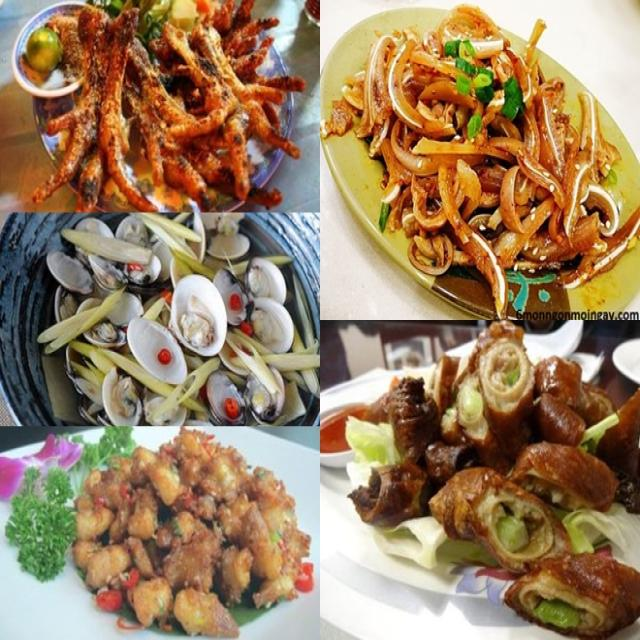chan ga nuong: (14, 0, 311, 207)
long gia chien: (327, 325, 640, 639)
ngheu hap: (14, 213, 314, 424)
sun ga chien mam: (20, 436, 318, 640)
tai heo ngam: (324, 0, 640, 317)
